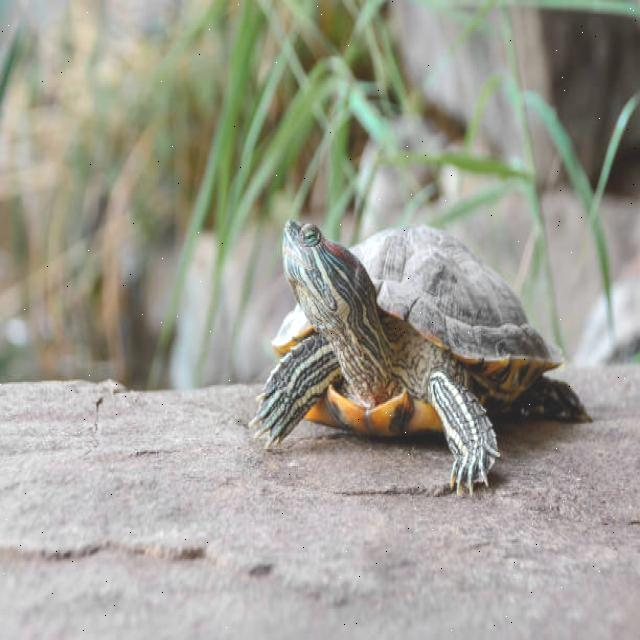tortoise: (238, 213, 574, 509)
